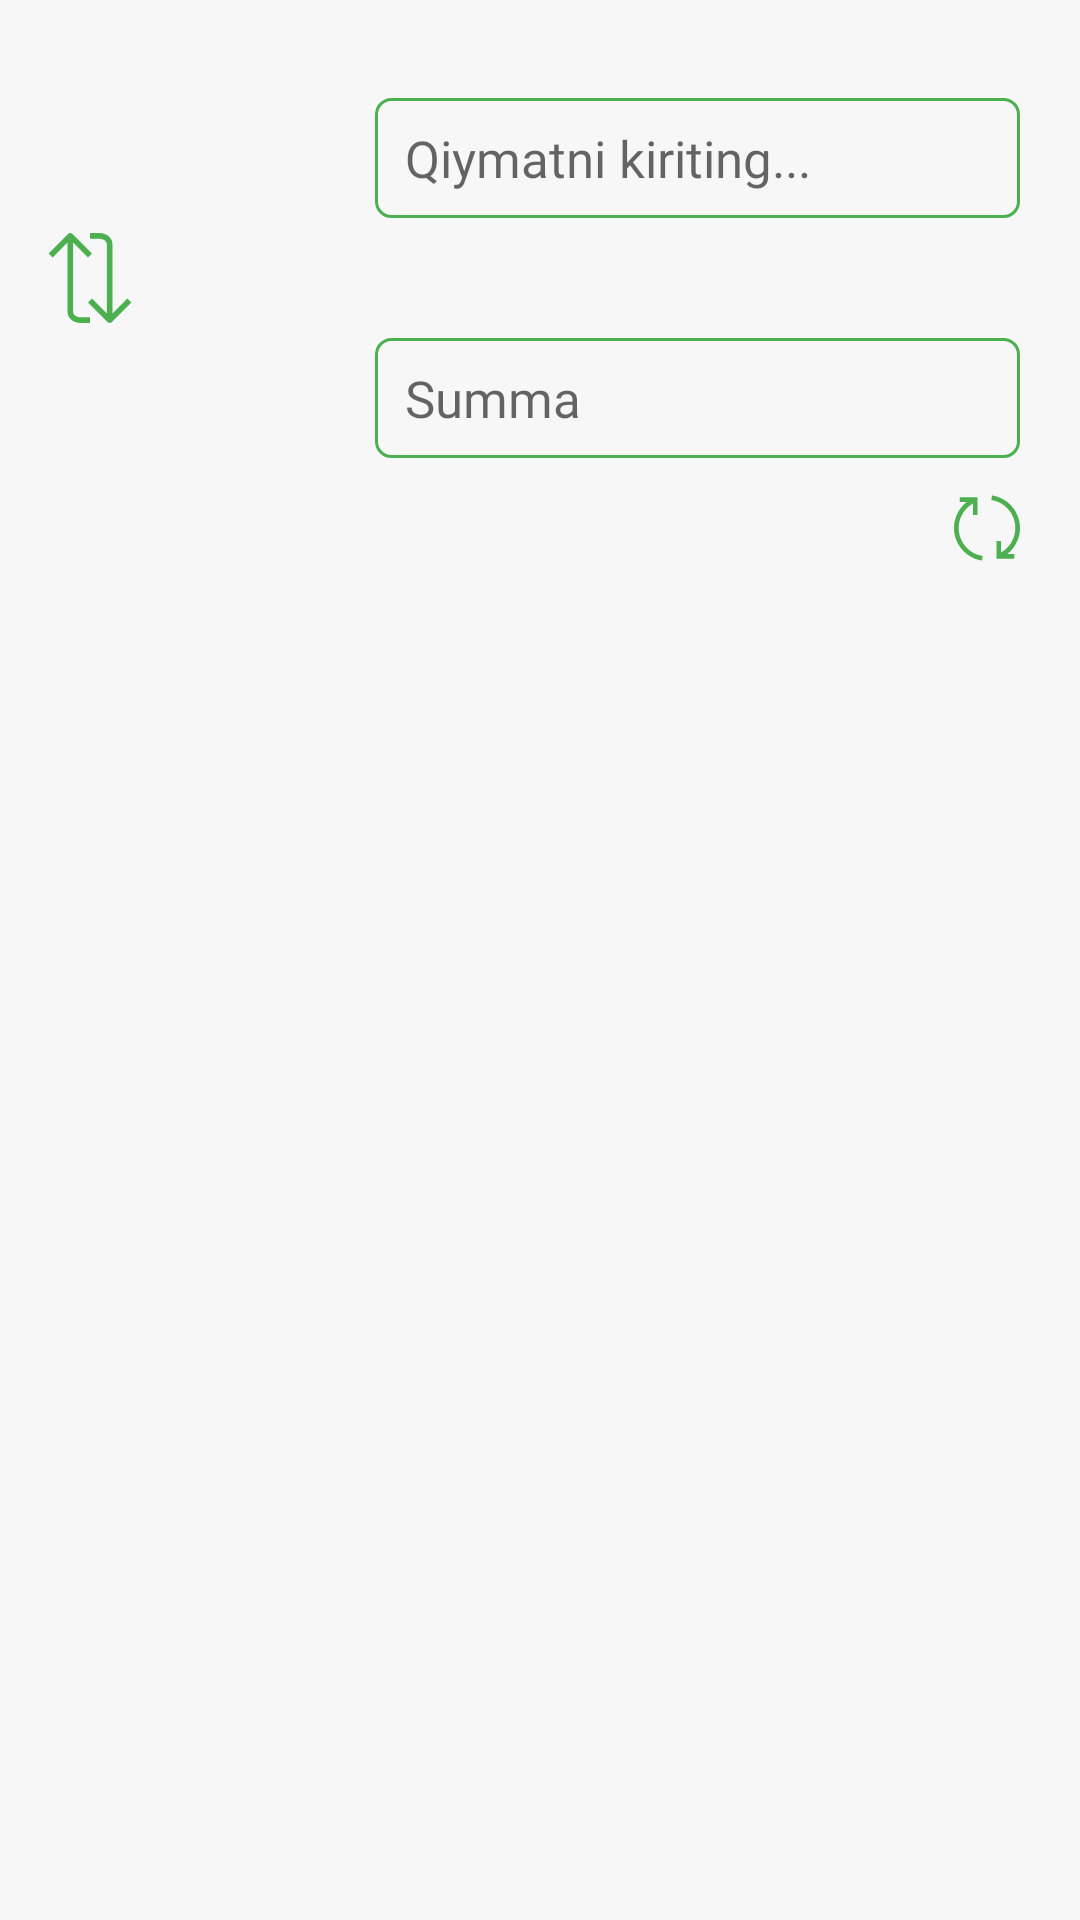

Named icons in this screenshot (1080 x 1920) and their bounding boxes, (x1, y1, x2, y2):
exchange vertical: (49, 233, 131, 323)
